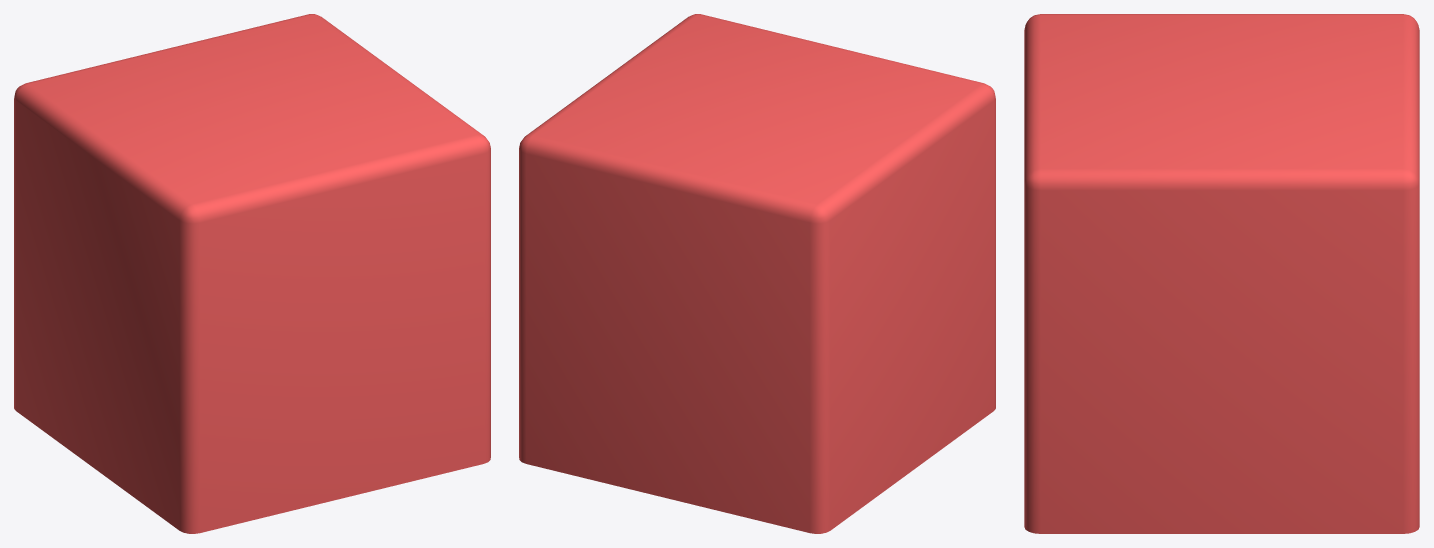
Rendered from obstacle_slidecube_big.FBX.
The picture shows the model from 3 angles, left to right: view 1: azimuth 30°, elevation 25°; view 2: azimuth 150°, elevation 25°; view 3: azimuth 270°, elevation 25°; orthographic projection. The views are drawn at different scales.
Visible parts, largest first — view 1: obstacle_slidecube_big; view 2: obstacle_slidecube_big; view 3: obstacle_slidecube_big.
Boxes of the visible parts, left/top/right/bottom form: obstacle_slidecube_big: left=14, top=14, right=490, bottom=533; obstacle_slidecube_big: left=519, top=14, right=995, bottom=533; obstacle_slidecube_big: left=1024, top=14, right=1419, bottom=533.
Size of the model in its own units: 6 by 6 by 6.
Materials: 1 (1 with a texture image).
